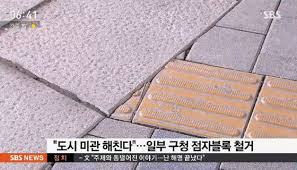block(line type): (152, 64, 282, 135)
